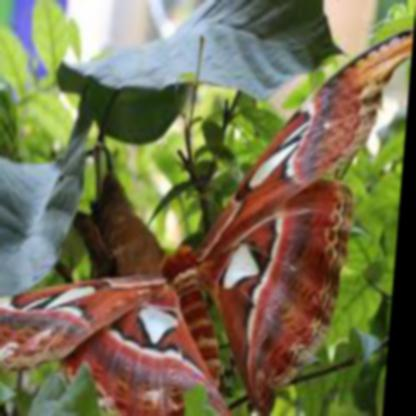Butterfly: (0, 30, 413, 414)
